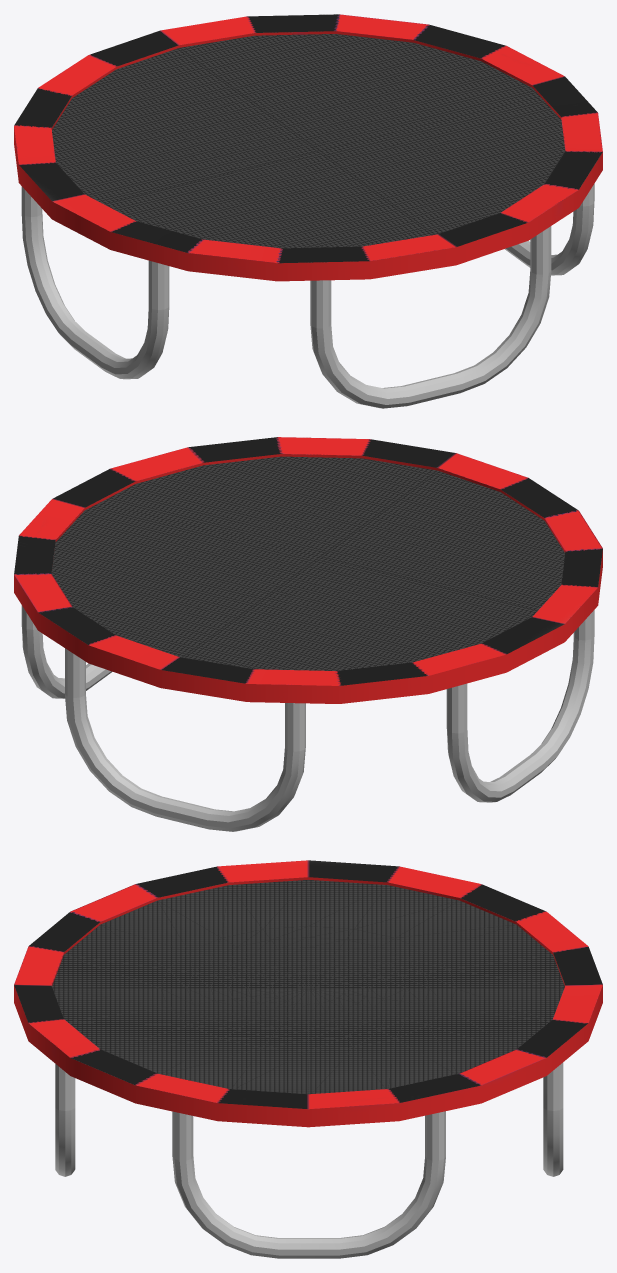
Rendered from tramp.fbx.
3 renders of one model, top to bottom at view 1: azimuth 30°, elevation 25°; view 2: azimuth 150°, elevation 25°; view 3: azimuth 270°, elevation 25°, orthographic.
Parts seen in each view (by area): view 1: polySurface6, polySurface1, pCylinder17, pCylinder16, pCylinder14; view 2: polySurface6, polySurface1, pCylinder15, pCylinder16, pCylinder14; view 3: polySurface6, polySurface1, pCylinder14, pCylinder15, pCylinder17.
Part boxes in pixels (<box>): polySurface6: <box>52,34,565,248</box>; polySurface1: <box>14,14,602,281</box>; pCylinder17: <box>310,226,551,408</box>; pCylinder16: <box>21,186,169,379</box>; pCylinder14: <box>504,183,594,275</box>; polySurface6: <box>51,456,564,670</box>; polySurface1: <box>14,437,602,703</box>; pCylinder15: <box>65,648,305,831</box>; pCylinder16: <box>446,610,594,802</box>; pCylinder14: <box>21,605,112,698</box>; polySurface6: <box>52,879,564,1094</box>; polySurface1: <box>14,860,602,1127</box>; pCylinder14: <box>172,1111,445,1258</box>; pCylinder15: <box>543,1062,563,1176</box>; pCylinder17: <box>55,1064,75,1176</box>.
Size of the model in its own units: 18.49 by 5.89 by 18.49.
